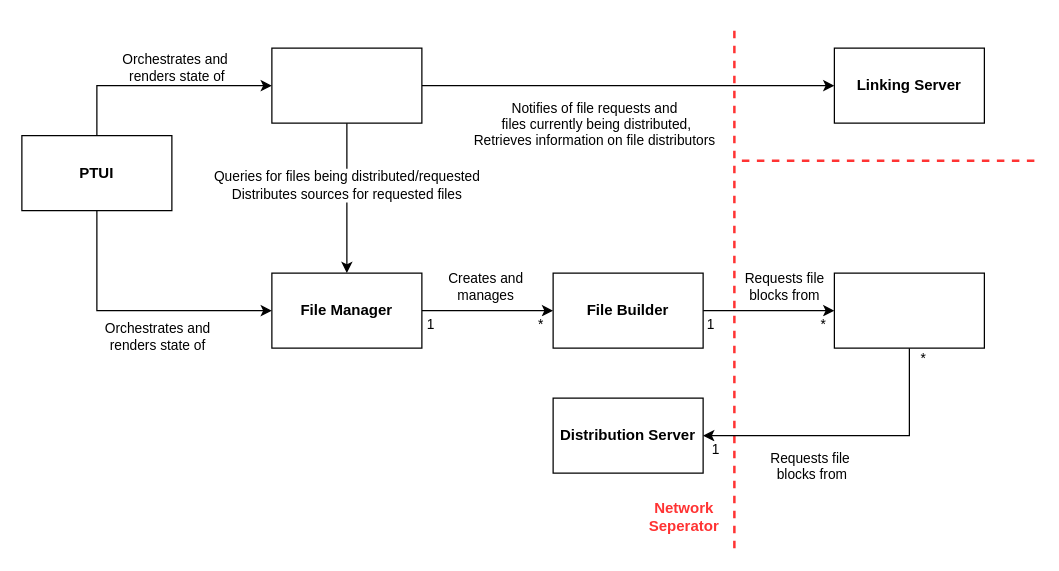
Image size: 1059x571. Some labels were removed from this diagram. The centre of each missing label's shape, as x and y in pixels:
External Client: (x=908, y=310)
Linker: (x=346, y=85)
